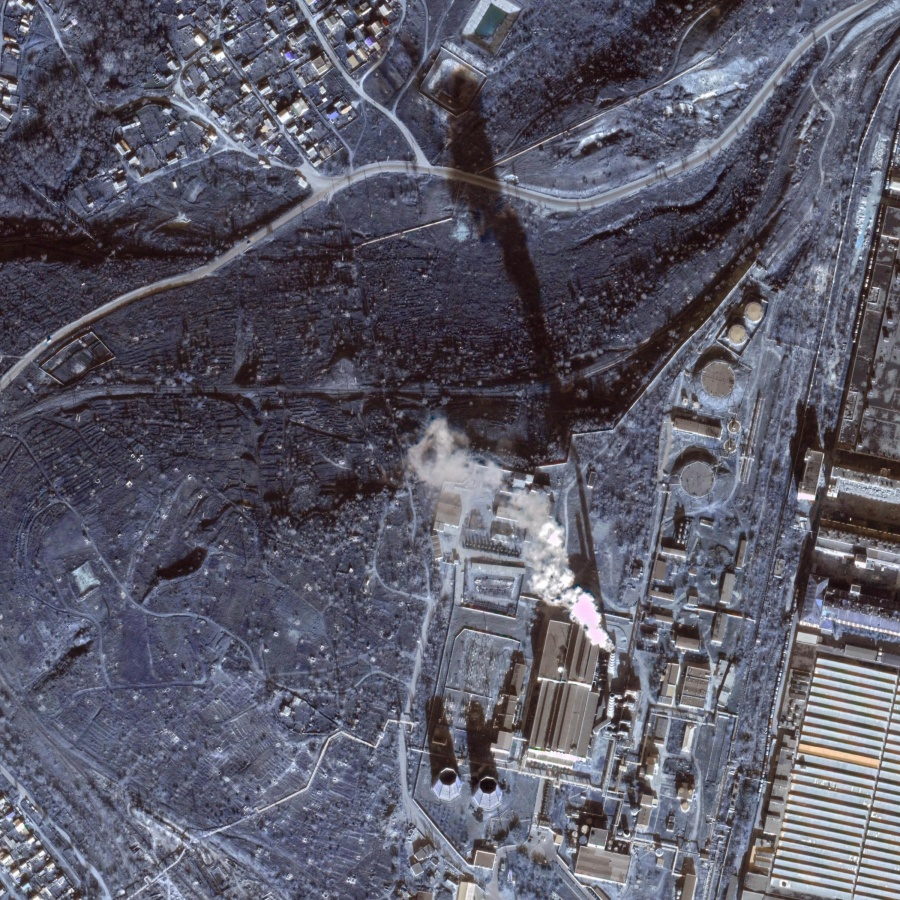PowerPlant: (419, 561, 642, 822)
